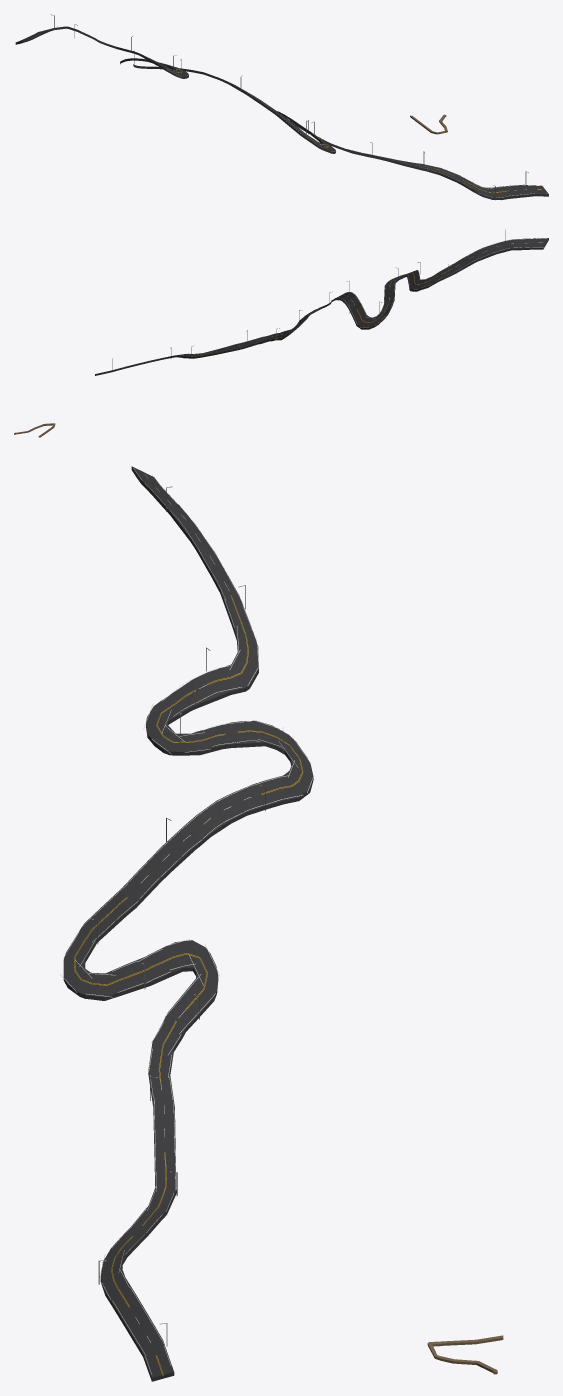
The picture shows the model from 3 angles, top to bottom: view 1: azimuth 30°, elevation 25°; view 2: azimuth 150°, elevation 25°; view 3: azimuth 270°, elevation 25°; orthographic projection. The views are drawn at different scales.
Bounding box in the file's own units: 295 × 157 × 127.
